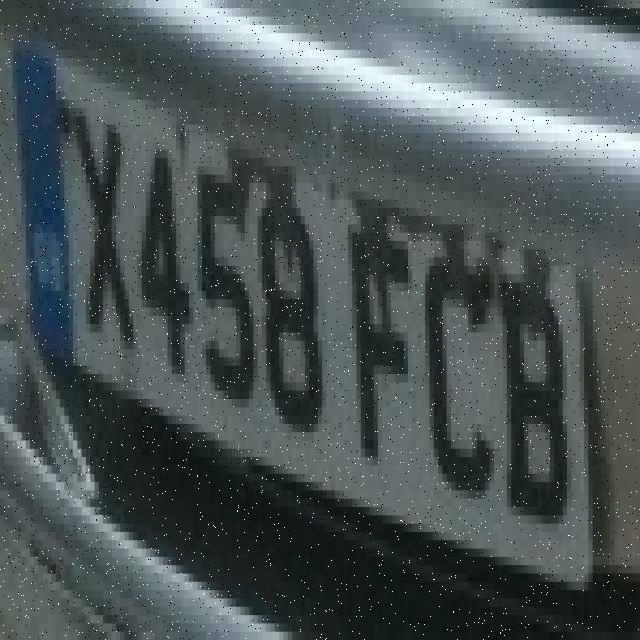LicensePlate: (8, 15, 609, 624)
